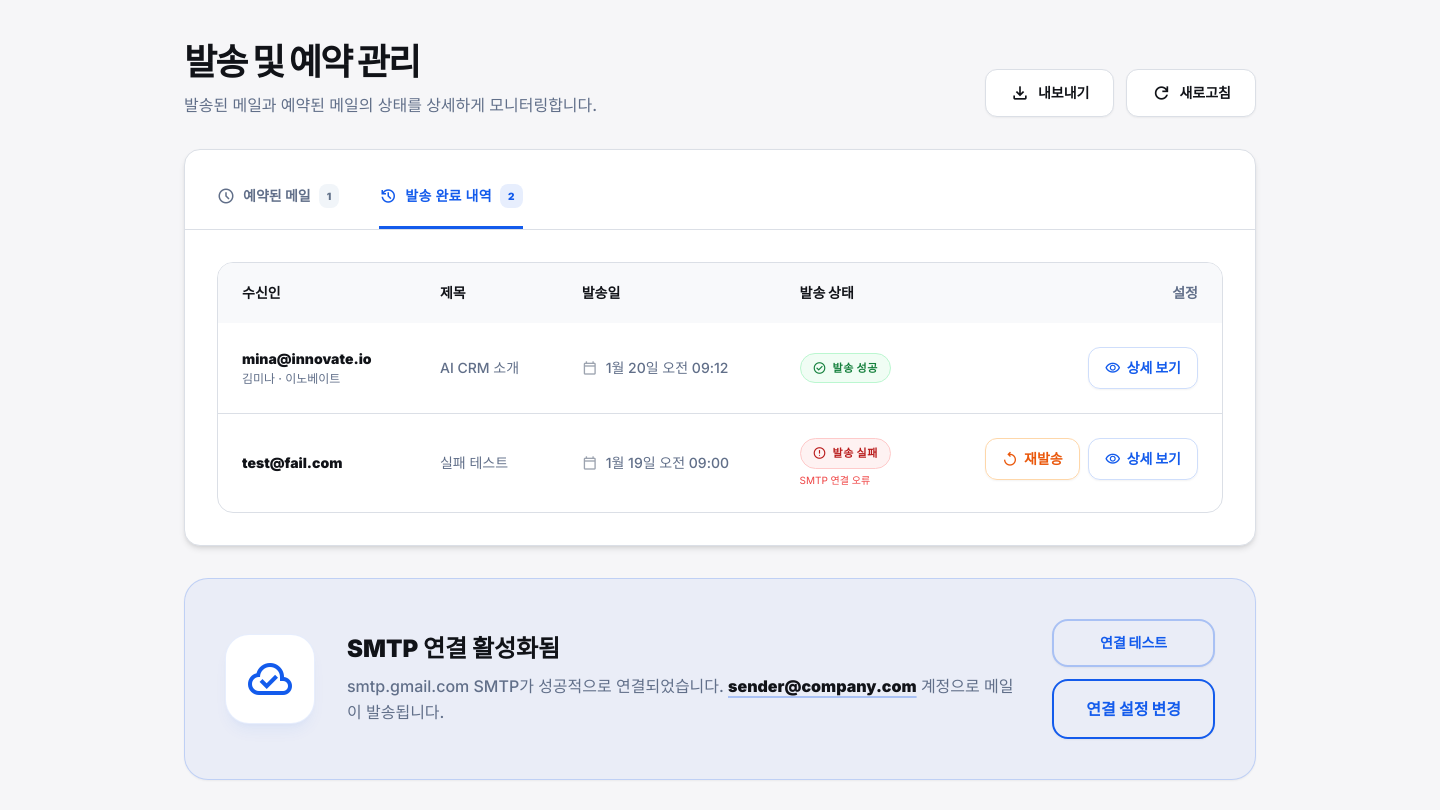
Test case: EmailManagement › 발송 기록 상세 모달 › 닫기 버튼 클릭 시 모달이 닫힌다
The image size is (1440, 810).
expect the text "AI CRM 소개" is shown: met, box [416,323,558,414]
Click the button "상세 보기" in the row of "mina@innovate.io" at (1143, 368), box [1088,347,1198,389]
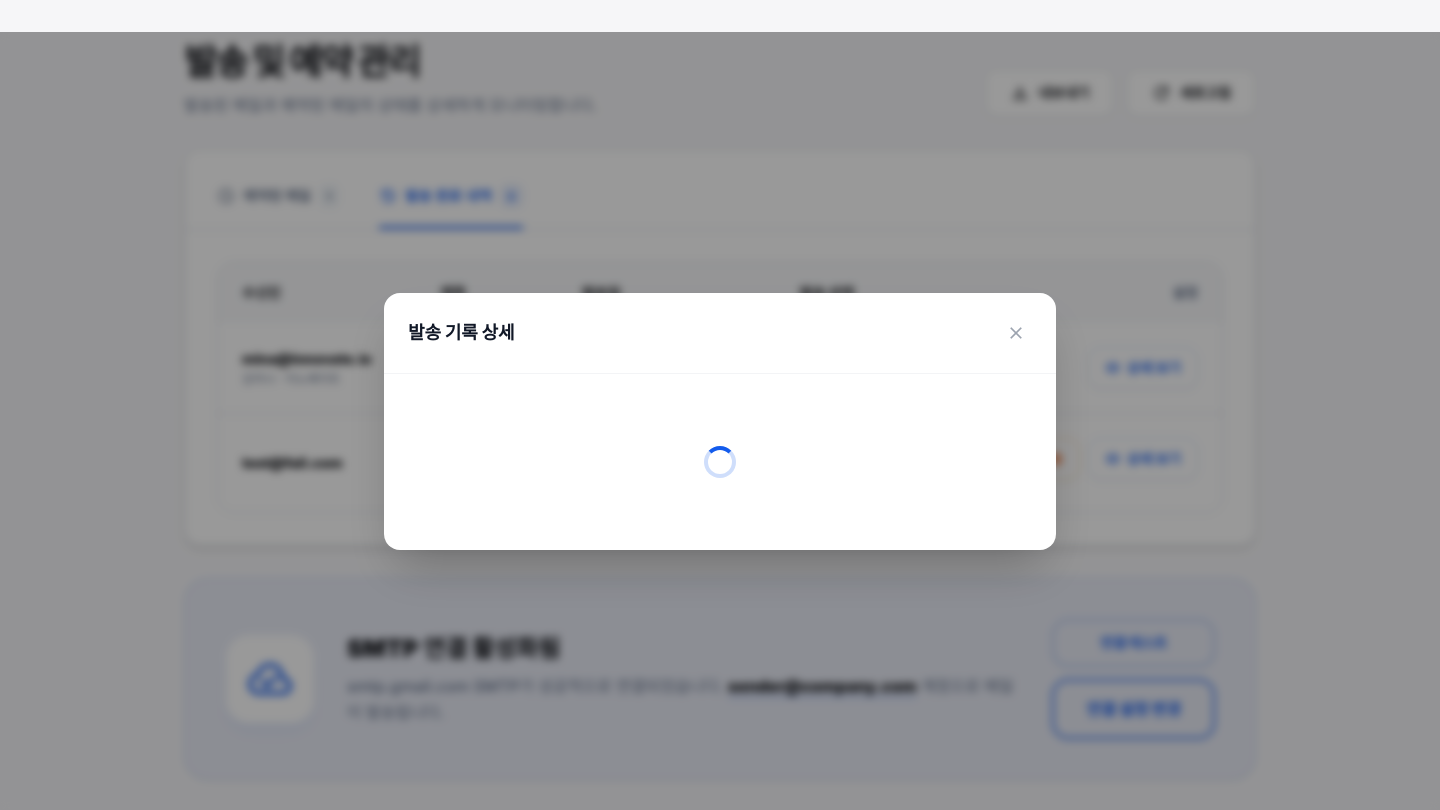
expect the heading "발송 기록 상세" is shown: met, box [408,318,514,346]
Click the button at (1016, 332), box [1000,312,1032,352]
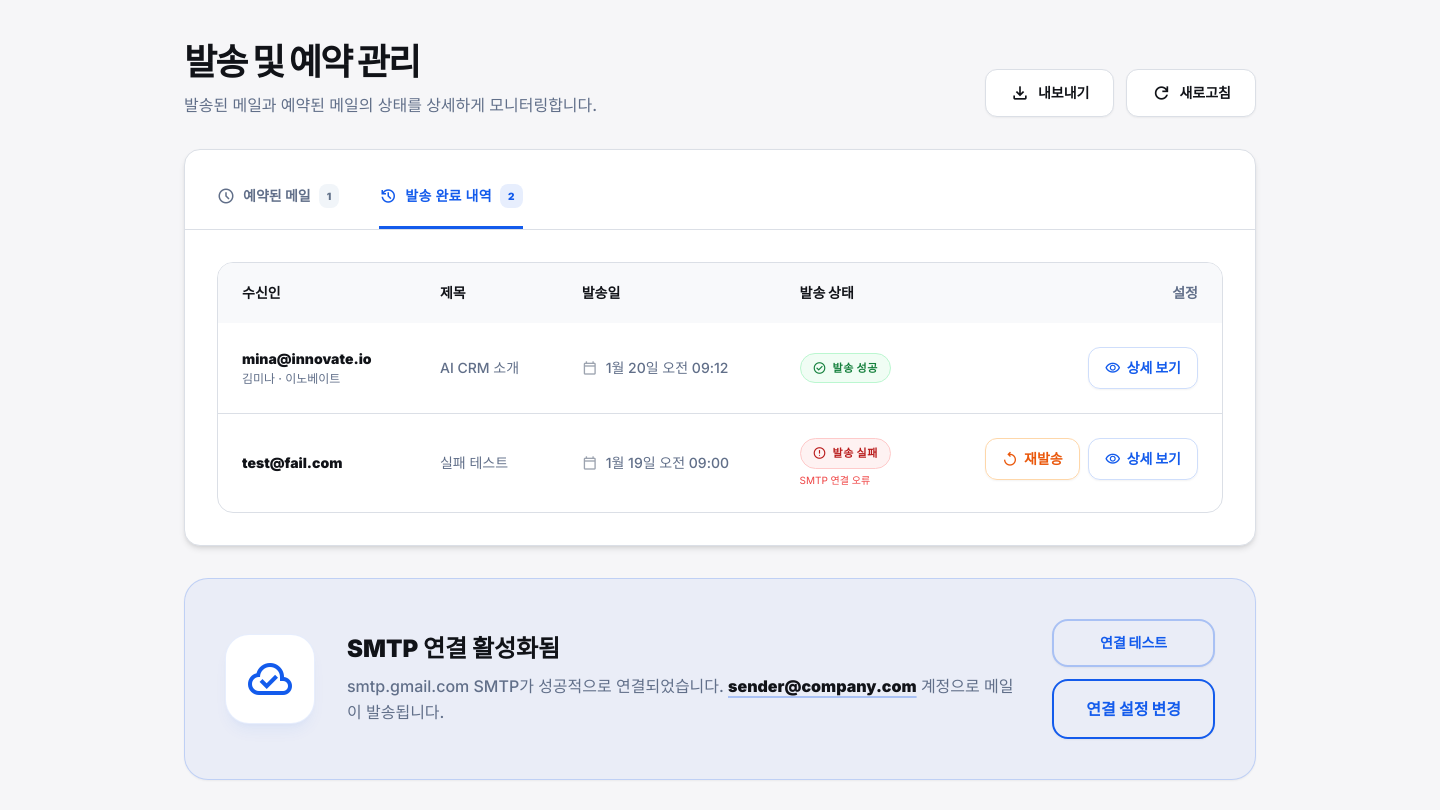
expect the heading "발송 기록 상세" is gone: met
